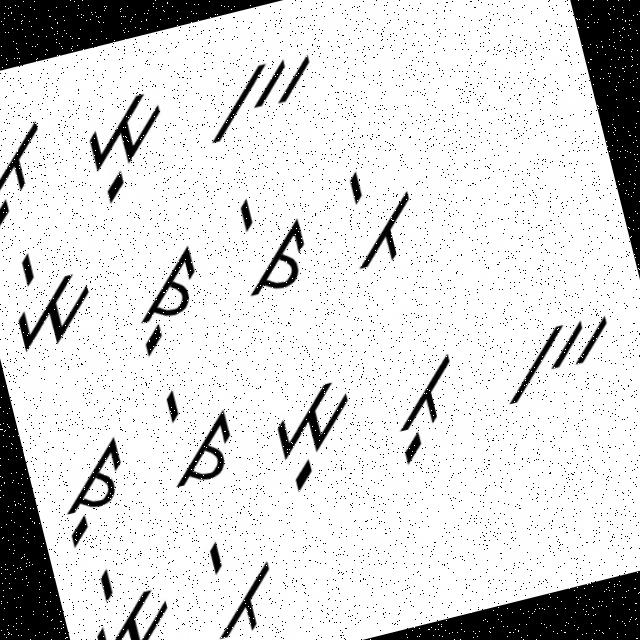be: (179, 522, 301, 639), (332, 153, 436, 274)
bu: (373, 340, 484, 474), (0, 109, 69, 234)
ce: (143, 369, 250, 501), (220, 182, 322, 302)
cu: (36, 404, 148, 552), (107, 232, 224, 362)
me: (0, 232, 107, 359), (72, 555, 185, 639)
mu: (248, 364, 380, 504), (68, 72, 184, 210)
